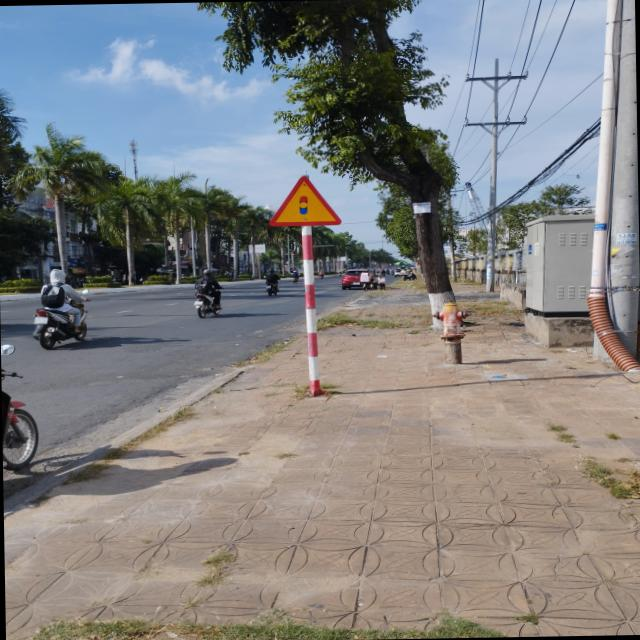Duong_Co_Go_Giam_Toc: (268, 176, 341, 226)
